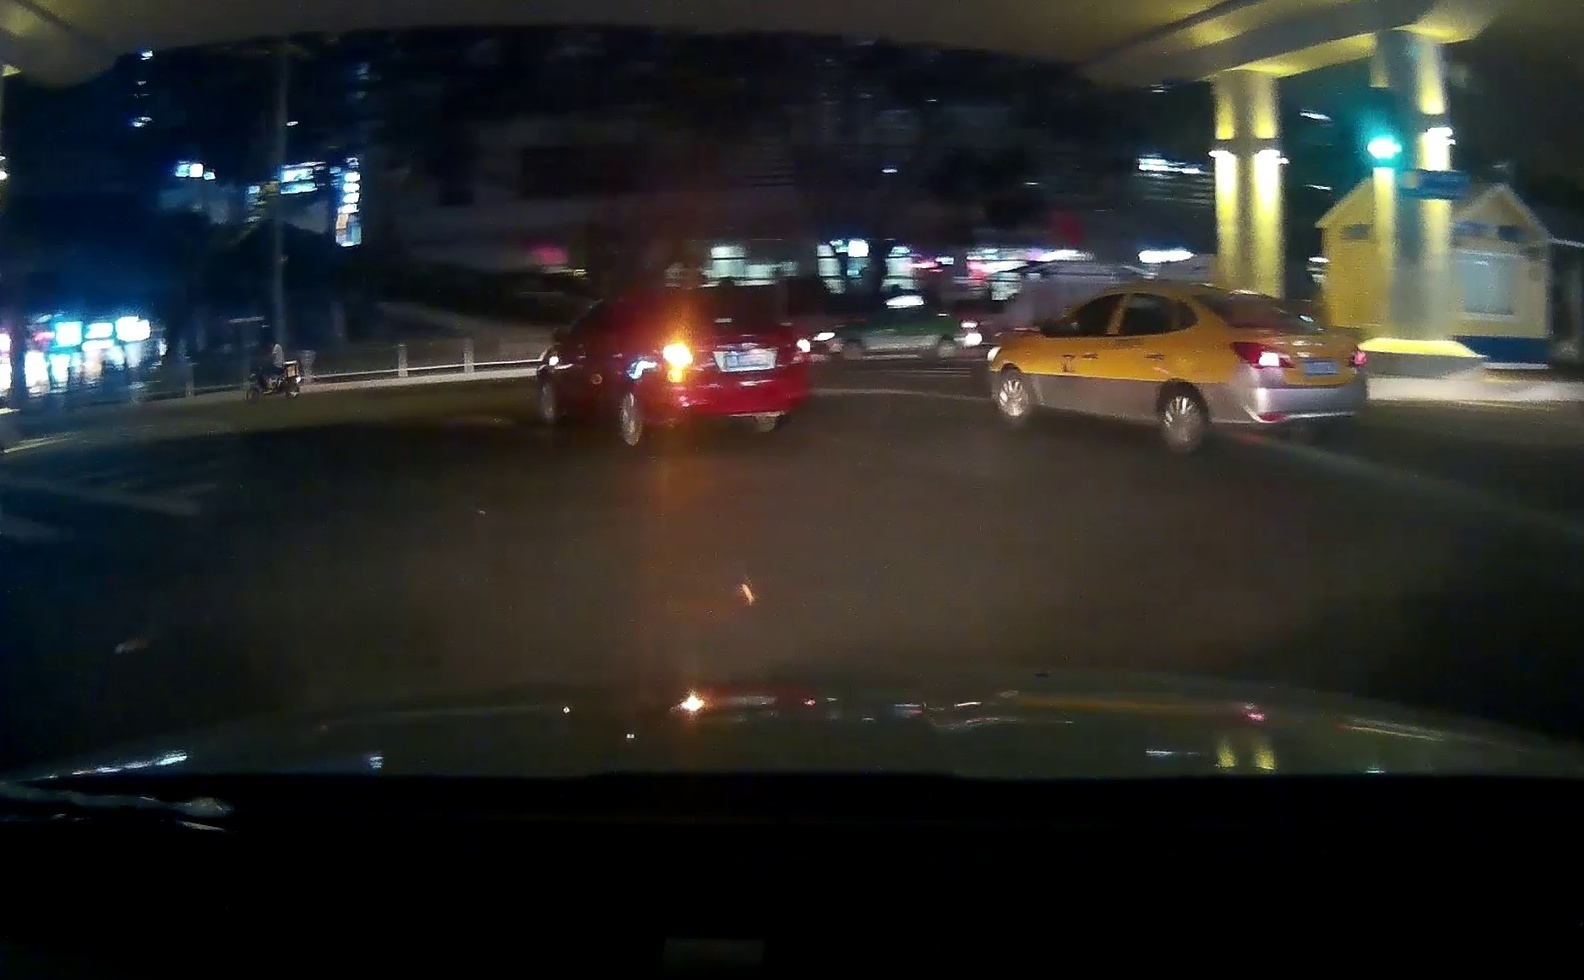L_light: (1229, 341, 1295, 369), (663, 341, 694, 369)
R_light: (789, 338, 811, 366), (1345, 344, 1367, 368)
T_light: (713, 318, 733, 323), (1280, 325, 1299, 328)
night-left: (645, 289, 811, 447)
night-no: (1188, 283, 1369, 457)
